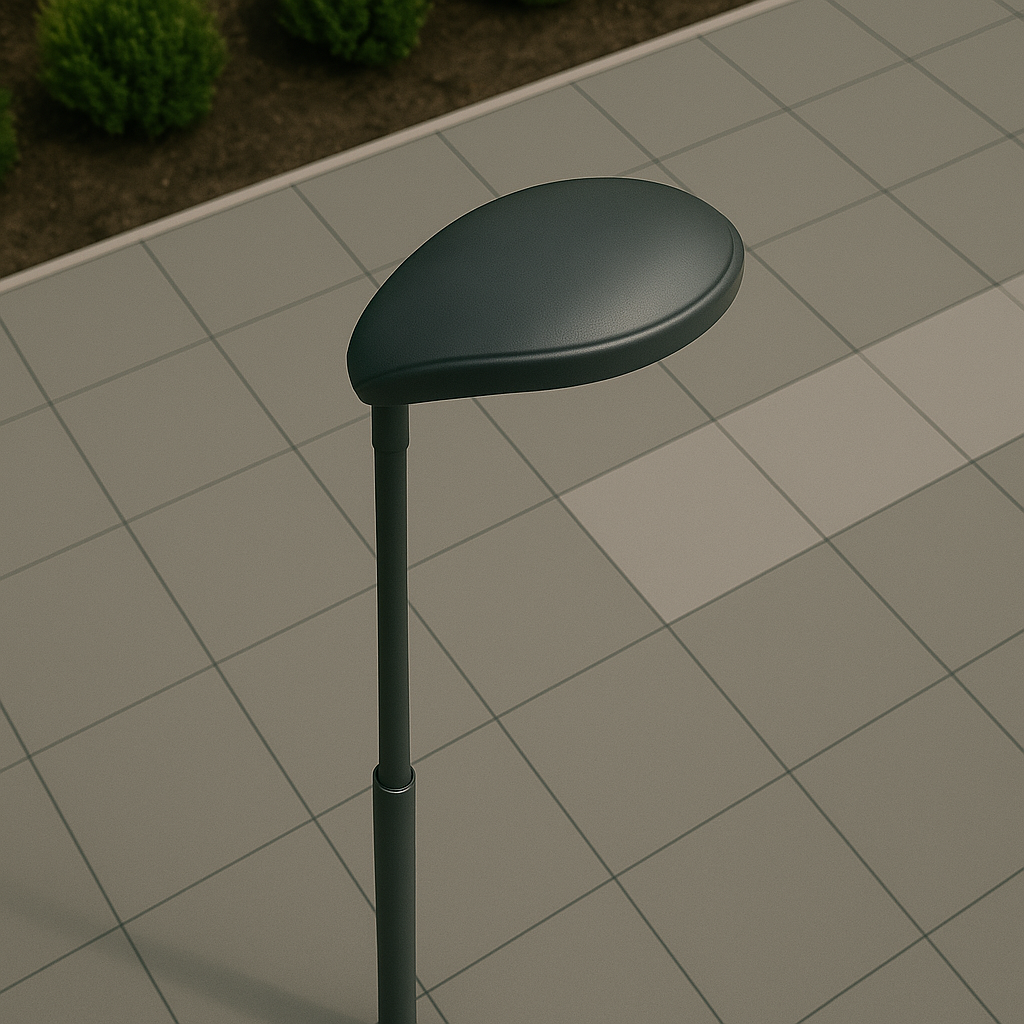Top_Street_Light: (329, 168, 757, 403)
